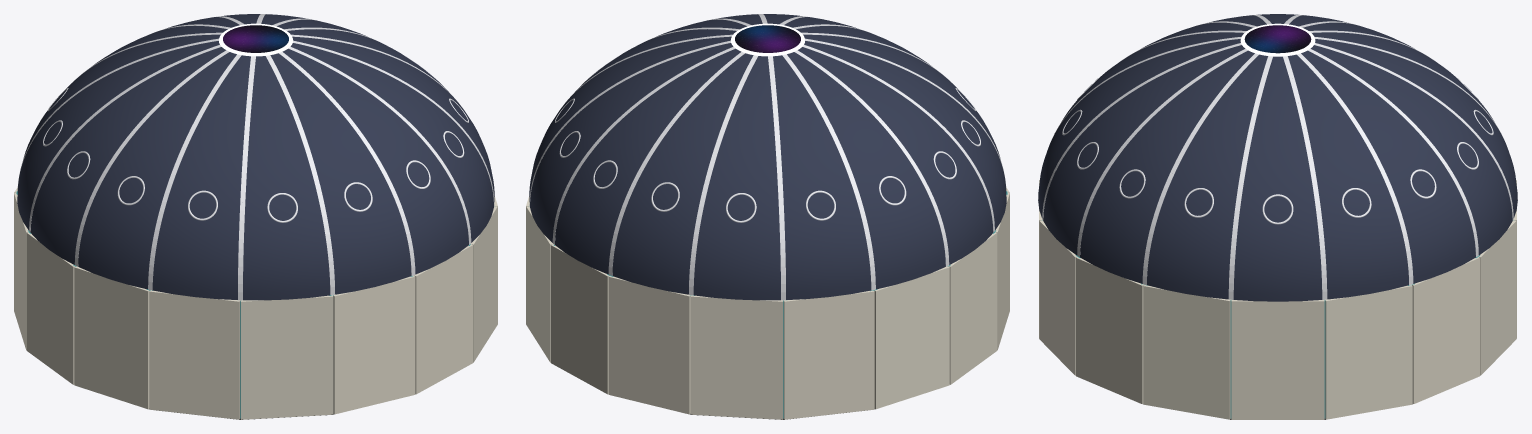
File: room.glb
3 views of the same model, side by side, from view 1: azimuth 30°, elevation 25°; view 2: azimuth 150°, elevation 25°; view 3: azimuth 270°, elevation 25° (orthographic).
Parts seen in each view (by area): view 1: Dome, Wall_11, Wall_10, Wall_12, Wall_09, Wall_13, Wall_08, Wall_14, Wall_07, Oculus_Space, Dome_Rib_10, Dome_Rib_11 (+8 smaller); view 2: Dome, Wall_05, Wall_06, Wall_04, Wall_07, Wall_03, Wall_08, Wall_02, Wall_09, Oculus_Space, Dome_Rib_05, Dome_Rib_04 (+8 smaller); view 3: Dome, Wall_00, Wall_15, Wall_01, Wall_02, Wall_14, Wall_03, Wall_13, Oculus_Space, Dome_Rib_00, Dome_Rib_15, Dome_Rib_01 (+8 smaller).
Boxes of the visible parts, x1=… form: Dome: x1=17, y1=14, x2=494, y2=300; Wall_11: x1=240, y1=295, x2=333, y2=419; Wall_10: x1=149, y1=290, x2=239, y2=419; Wall_12: x1=333, y1=275, x2=415, y2=414; Wall_09: x1=74, y1=266, x2=149, y2=409; Wall_13: x1=414, y1=244, x2=472, y2=394; Wall_08: x1=26, y1=232, x2=74, y2=384; Wall_14: x1=470, y1=206, x2=497, y2=362; Wall_07: x1=14, y1=193, x2=28, y2=349; Oculus_Space: x1=223, y1=25, x2=288, y2=52; Dome_Rib_10: x1=238, y1=56, x2=255, y2=300; Dome_Rib_11: x1=266, y1=55, x2=335, y2=295; Dome: x1=529, y1=14, x2=1006, y2=300; Wall_05: x1=690, y1=295, x2=783, y2=419; Wall_06: x1=784, y1=290, x2=874, y2=419; Wall_04: x1=608, y1=276, x2=690, y2=414; Wall_07: x1=874, y1=266, x2=949, y2=409; Wall_03: x1=551, y1=244, x2=609, y2=394; Wall_08: x1=948, y1=232, x2=997, y2=384; Wall_02: x1=526, y1=206, x2=553, y2=362; Wall_09: x1=995, y1=193, x2=1009, y2=349; Oculus_Space: x1=735, y1=25, x2=800, y2=52; Dome_Rib_05: x1=768, y1=56, x2=785, y2=300; Dome_Rib_04: x1=688, y1=55, x2=757, y2=295; Dome: x1=1038, y1=14, x2=1517, y2=301; Wall_00: x1=1231, y1=299, x2=1324, y2=419; Wall_15: x1=1143, y1=285, x2=1230, y2=419; Wall_01: x1=1325, y1=285, x2=1412, y2=419; Wall_02: x1=1411, y1=257, x2=1479, y2=403; Wall_14: x1=1076, y1=257, x2=1144, y2=403; Wall_03: x1=1478, y1=220, x2=1516, y2=375; Wall_13: x1=1039, y1=220, x2=1077, y2=375; Oculus_Space: x1=1244, y1=25, x2=1311, y2=53; Dome_Rib_00: x1=1283, y1=56, x2=1327, y2=299; Dome_Rib_15: x1=1228, y1=56, x2=1272, y2=299; Dome_Rib_01: x1=1297, y1=53, x2=1413, y2=284.
Size of the model in its own units: 13.2 by 8.55 by 13.2.
16 materials, 1 textured.
